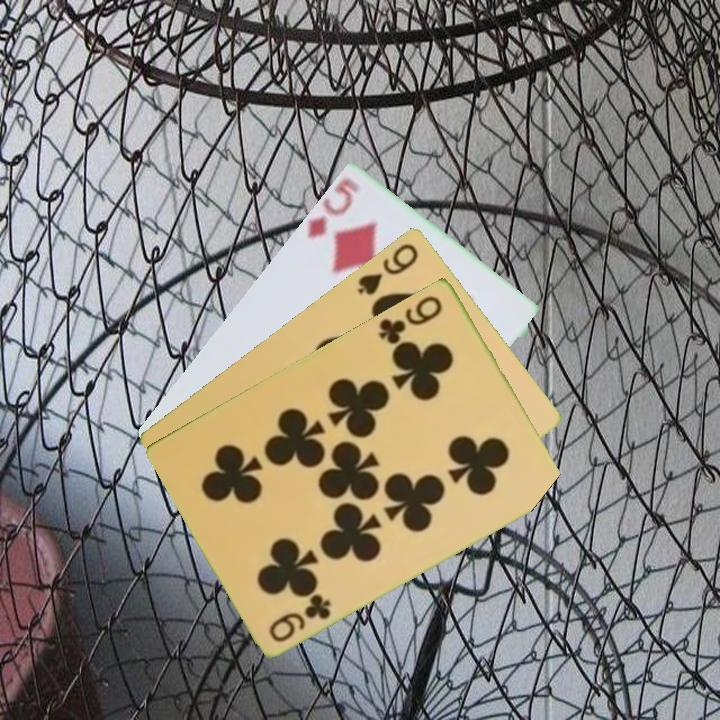5d: (303, 173, 362, 241)
9c: (375, 291, 446, 347), (265, 590, 334, 645)
9s: (354, 239, 422, 298)
